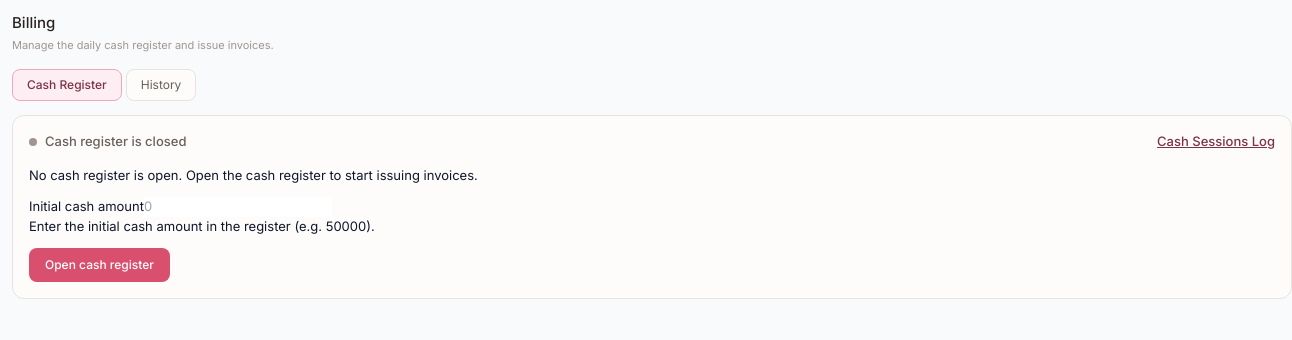
BillingPage (HU-13, HU-14, HU-15, HU-16, HU-17, HU-18) › Cash register closed state › shows validation error for invalid opening amount
Click the button "Open cash register".
click(99, 265)  # box 29,248 -> 170,282
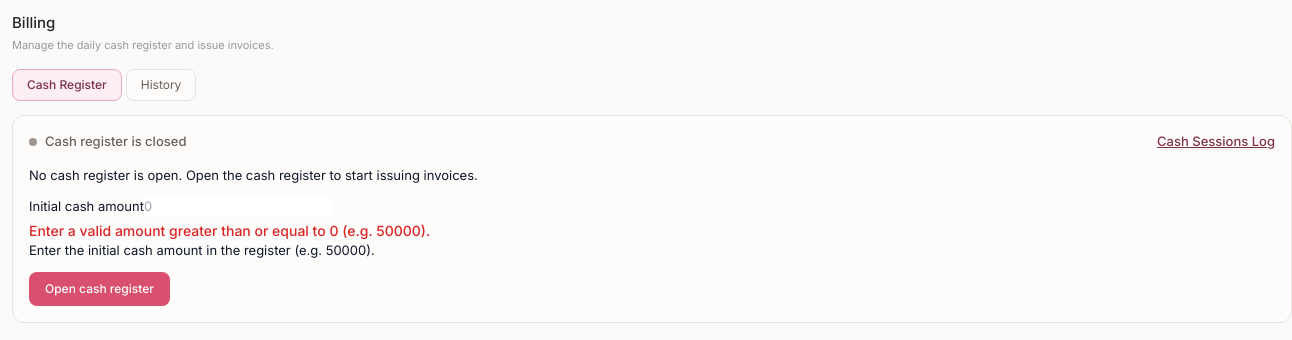
Expected: the message "Enter a valid amount greater than or equal to 0 (e.g. 50000)." is shown, 29,222 -> 430,238
